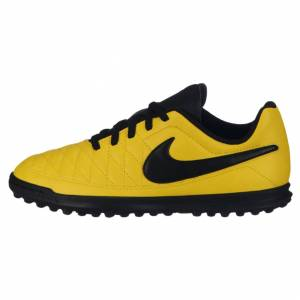nike: (141, 134, 280, 183)
